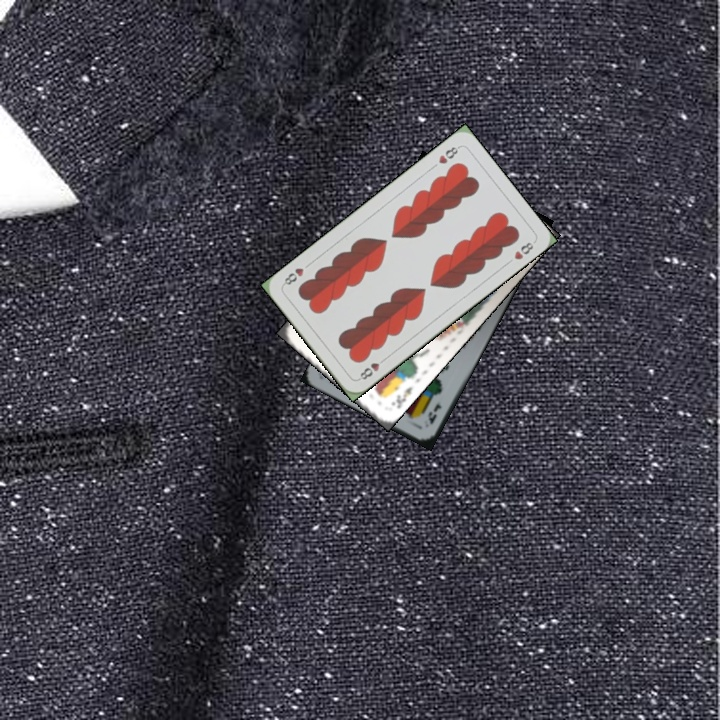EK: (387, 382, 415, 411), (423, 400, 444, 427)
H8: (354, 353, 389, 383), (434, 142, 462, 166)
